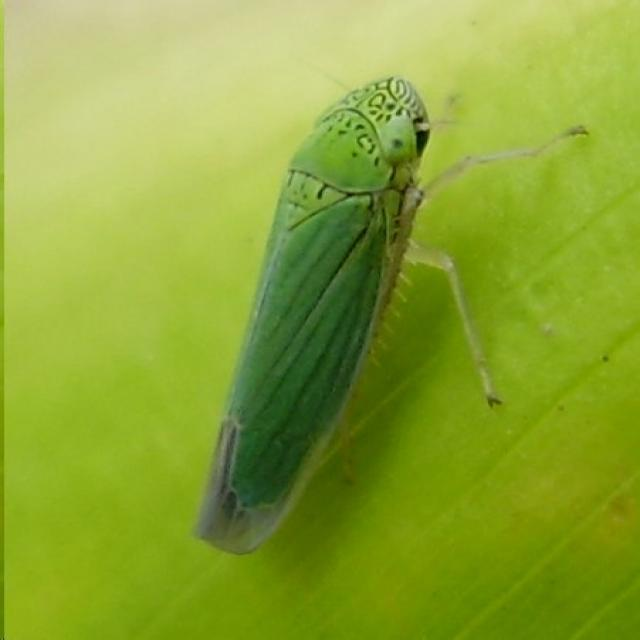Yechan: (160, 59, 572, 583)
